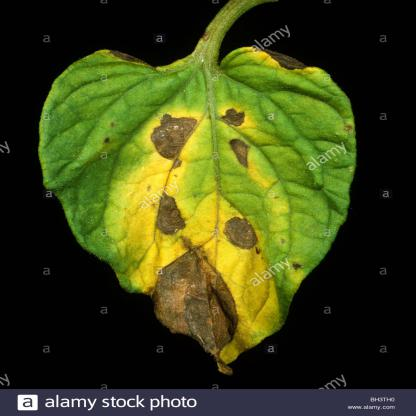Tomato Early blight leaf: (40, 10, 347, 377)
